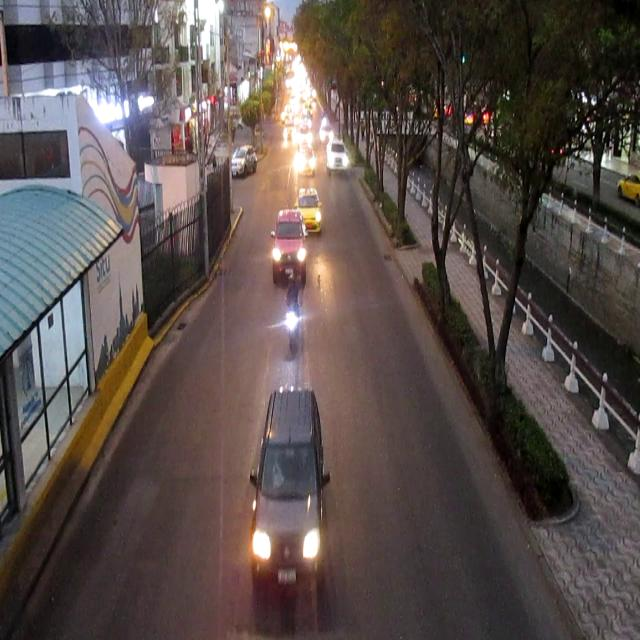SUV: (252, 391, 322, 597), (272, 211, 305, 279), (232, 149, 257, 178)
